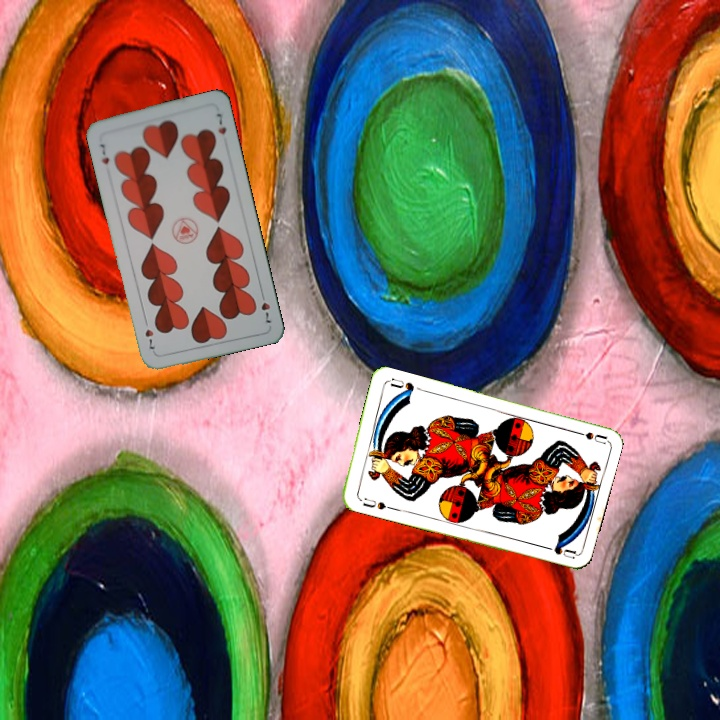H7: (257, 287, 274, 327), (96, 140, 112, 167)
SU: (567, 426, 608, 446), (354, 493, 394, 512)
